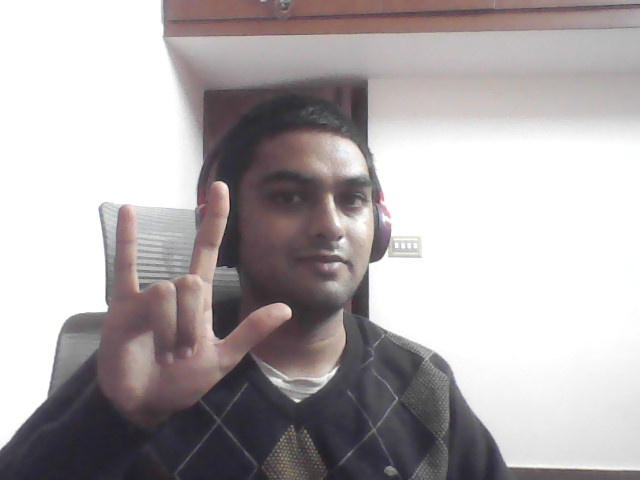I Love You: (79, 165, 298, 425)
